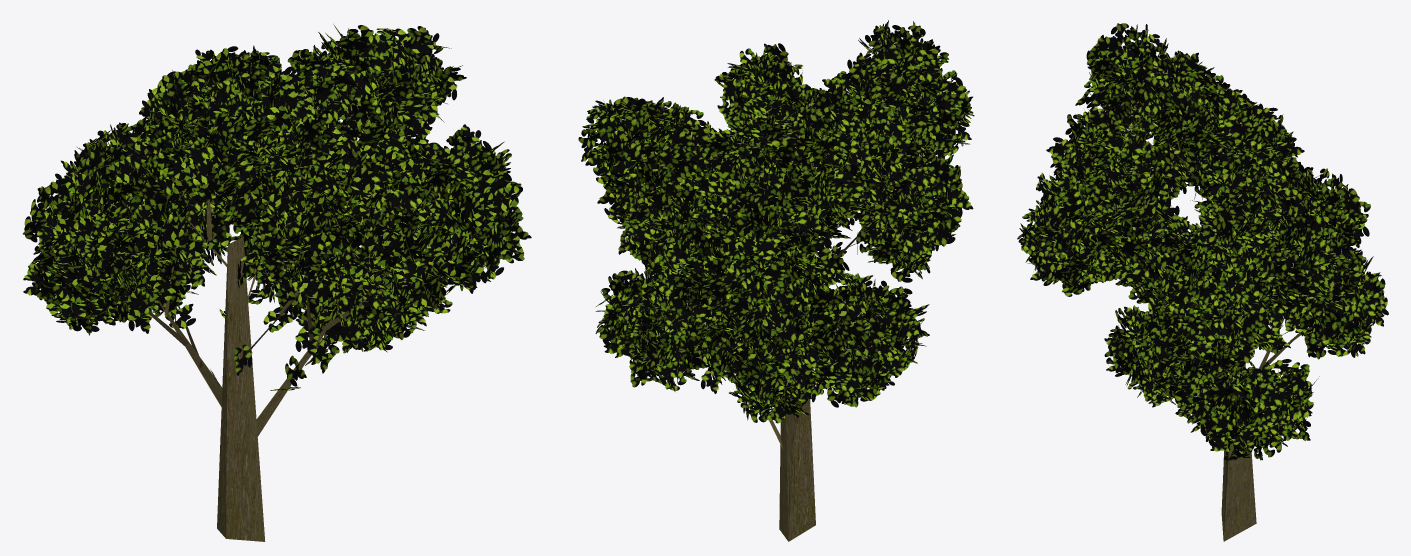
File: oak_broadleaf_v02_LOD1.fbx
3 renders of one model, left to right at view 1: azimuth 30°, elevation 25°; view 2: azimuth 150°, elevation 25°; view 3: azimuth 270°, elevation 25°, orthographic. The views are drawn at different scales.
Visible parts, largest first — view 1: oak_broadleaf_v02_LOD1; view 2: oak_broadleaf_v02_LOD1; view 3: oak_broadleaf_v02_LOD1.
Boxes of the visible parts, bbox=[...] form: oak_broadleaf_v02_LOD1: bbox=[22, 24, 531, 541]; oak_broadleaf_v02_LOD1: bbox=[578, 20, 974, 541]; oak_broadleaf_v02_LOD1: bbox=[1017, 23, 1388, 541].
Bounding box in the file's own units: 1855 × 1626 × 2264.
2 materials, 2 textured.
